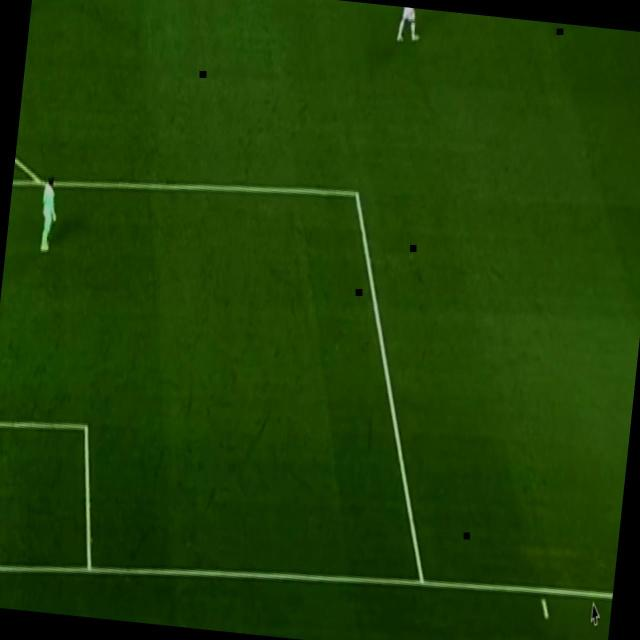player-white: (34, 168, 63, 256), (394, 6, 424, 48)
